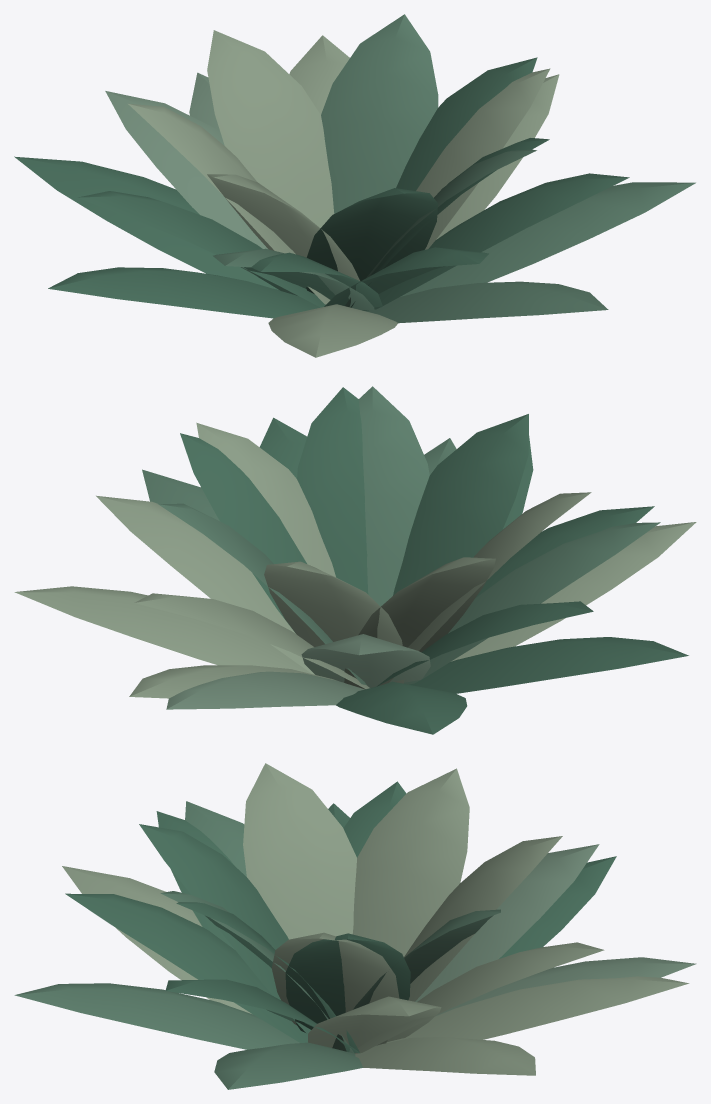
Rendered from agave.glb.
The picture shows the model from 3 angles, top to bottom: view 1: azimuth 30°, elevation 25°; view 2: azimuth 150°, elevation 25°; view 3: azimuth 270°, elevation 25°; orthographic projection. The views are drawn at different scales.
Visible parts, largest first — view 1: veg_agave_lod0; view 2: veg_agave_lod0; view 3: veg_agave_lod0.
Boxes of the visible parts, x1,y1,x2,y2 form: veg_agave_lod0: (14, 14, 695, 357); veg_agave_lod0: (14, 386, 696, 734); veg_agave_lod0: (14, 763, 696, 1089).
Size of what is drawn, in the model's own units: 2.04 by 0.6854 by 2.05.
